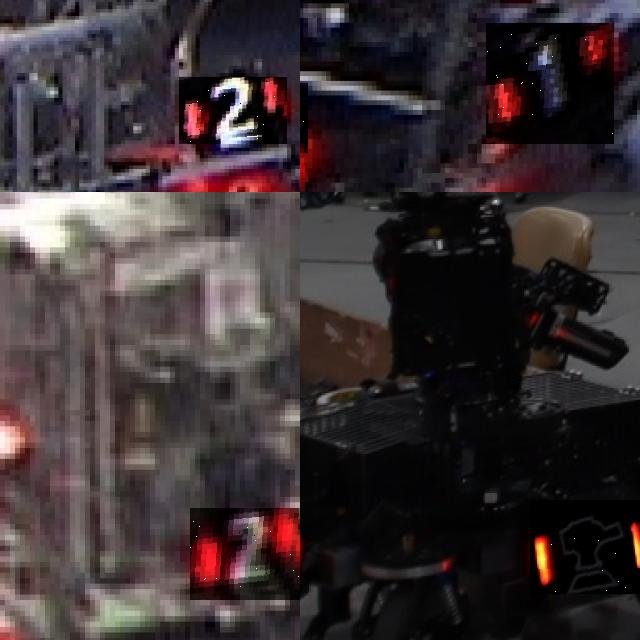R1: (486, 23, 614, 144)
R2: (190, 508, 300, 600), (179, 77, 287, 144)
Rs: (530, 499, 640, 594)
